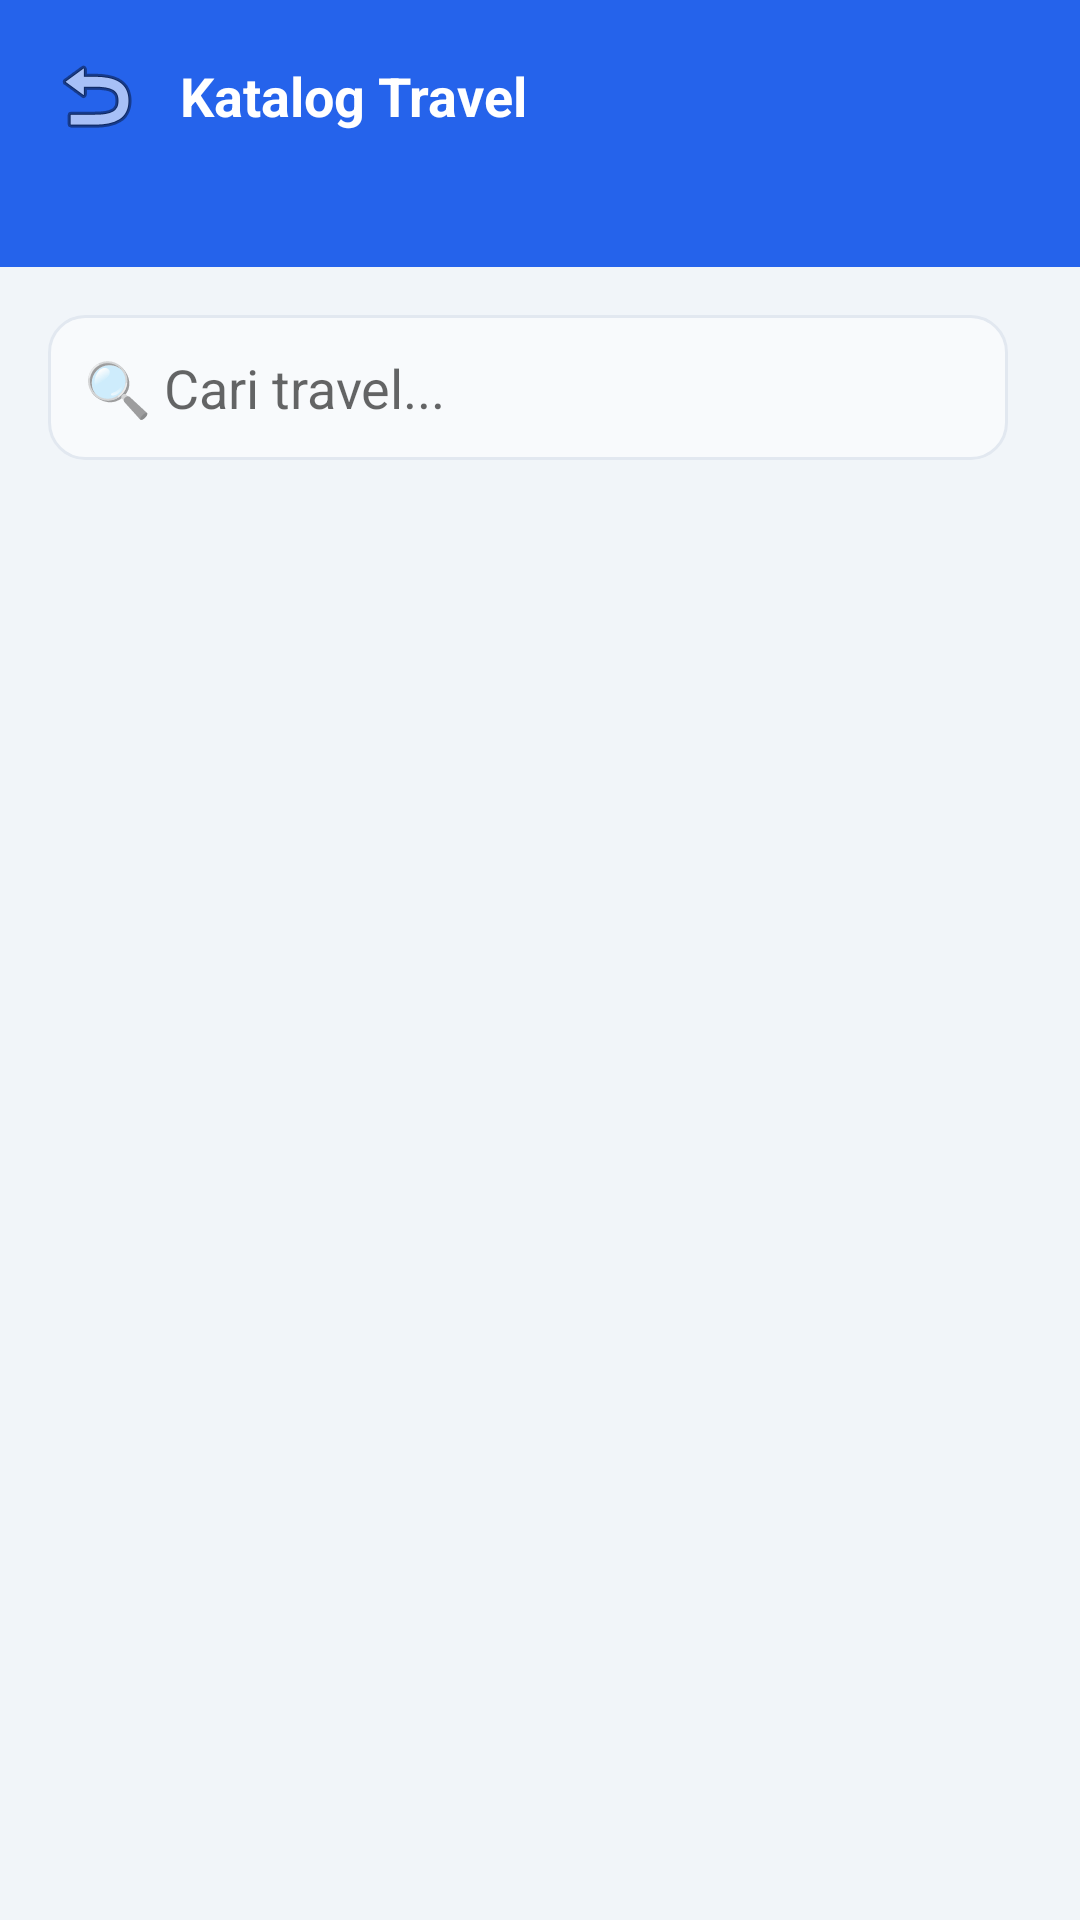

Point at icon controls on the screen. Image size 1080 × 1920, points as (x,y).
back: (97,96)
